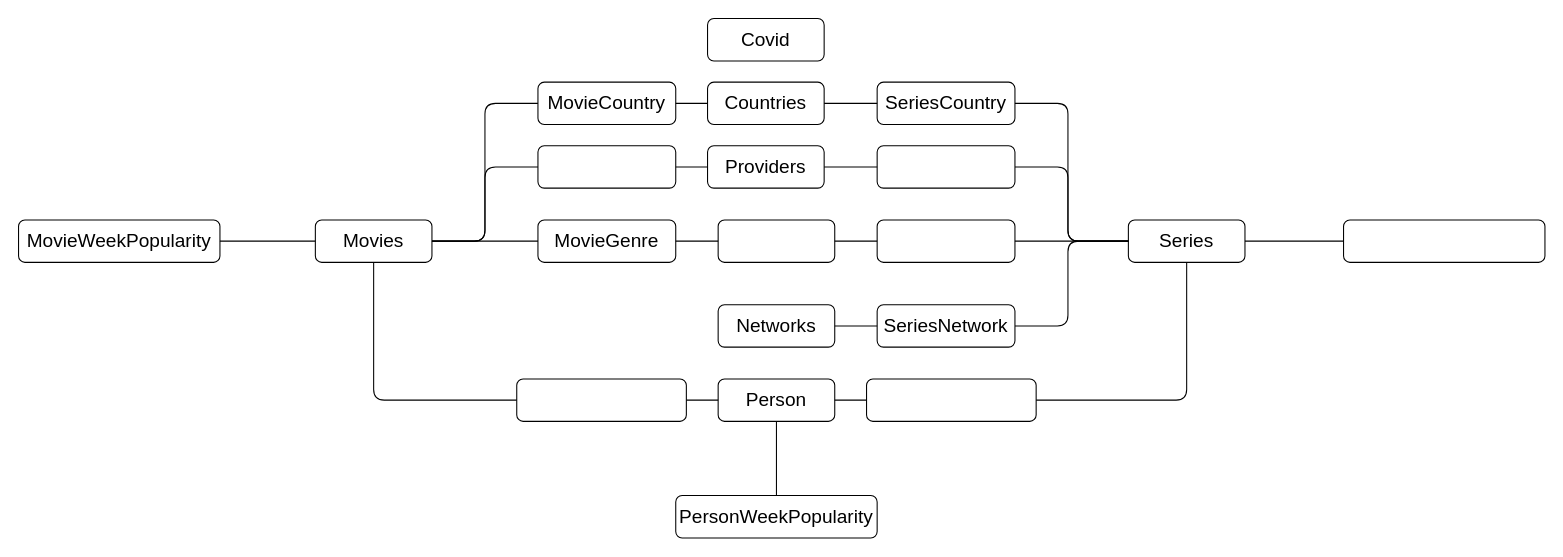
This 1563x557 diagram has some shape labels left out. Here are the shapes that lost their labels. From the top down, the centre of each, then its label:
At point (606, 166): "MovieProvider".
At point (945, 166): "SeriesProvider".
At point (776, 240): "Genre".
At point (945, 240): "SeriesGenre".
At point (1443, 240): "SeriesWeekPopularity".
At point (601, 399): "MovieCredits".
At point (950, 399): "SeriesCredits".
